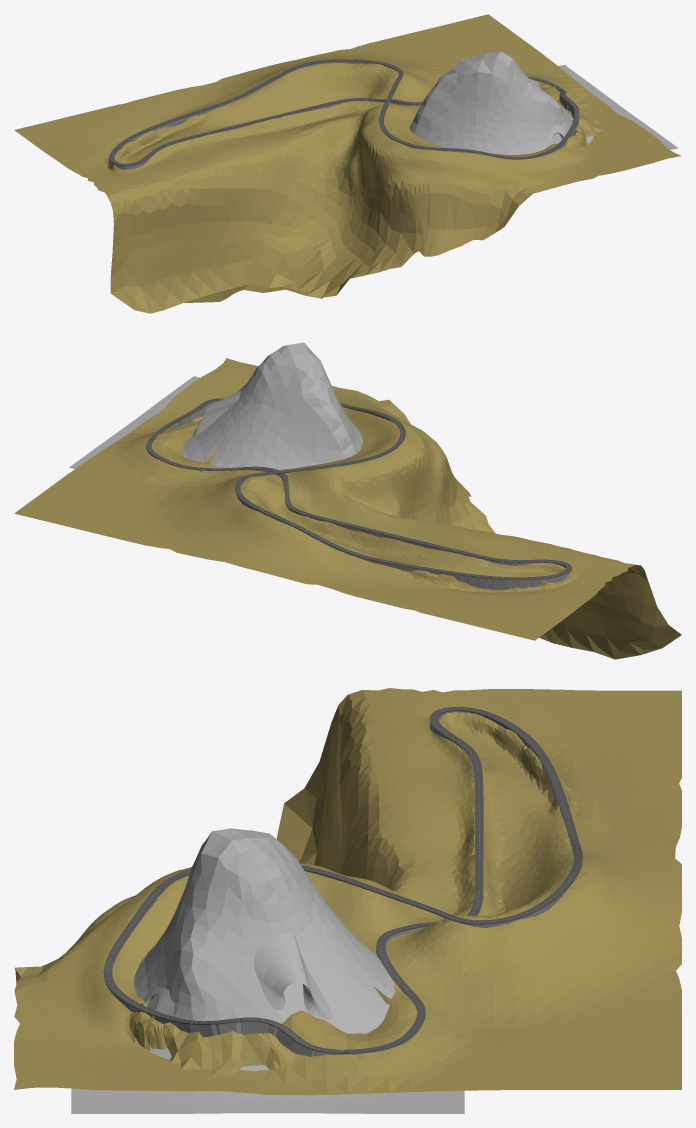
The model's file is rata2notunnelnewtextures.fbx.
3 renders of one model, top to bottom at view 1: azimuth 30°, elevation 25°; view 2: azimuth 150°, elevation 25°; view 3: azimuth 270°, elevation 25°, orthographic. The views are drawn at different scales.
Visible parts, largest first — view 1: terrain, montagne, rata :D, gravel; view 2: terrain, montagne, rata :D, gravel, tunneli; view 3: terrain, montagne, rata :D, tunneli, gravel.
Boxes of the visible parts, x1,y1,x2,y2 form: terrain: [14, 14, 681, 313]; montagne: [410, 51, 677, 154]; rata :D: [109, 59, 579, 166]; gravel: [109, 61, 578, 169]; terrain: [14, 358, 681, 659]; montagne: [69, 342, 362, 469]; rata :D: [146, 398, 571, 579]; gravel: [146, 401, 571, 589]; tunneli: [193, 390, 240, 436]; terrain: [14, 688, 681, 1095]; montagne: [71, 828, 464, 1113]; rata :D: [103, 707, 582, 1053]; tunneli: [141, 933, 332, 1020]; gravel: [104, 711, 582, 1057].
Bounding box in the file's own units: 11089 × 4095 × 7345.
